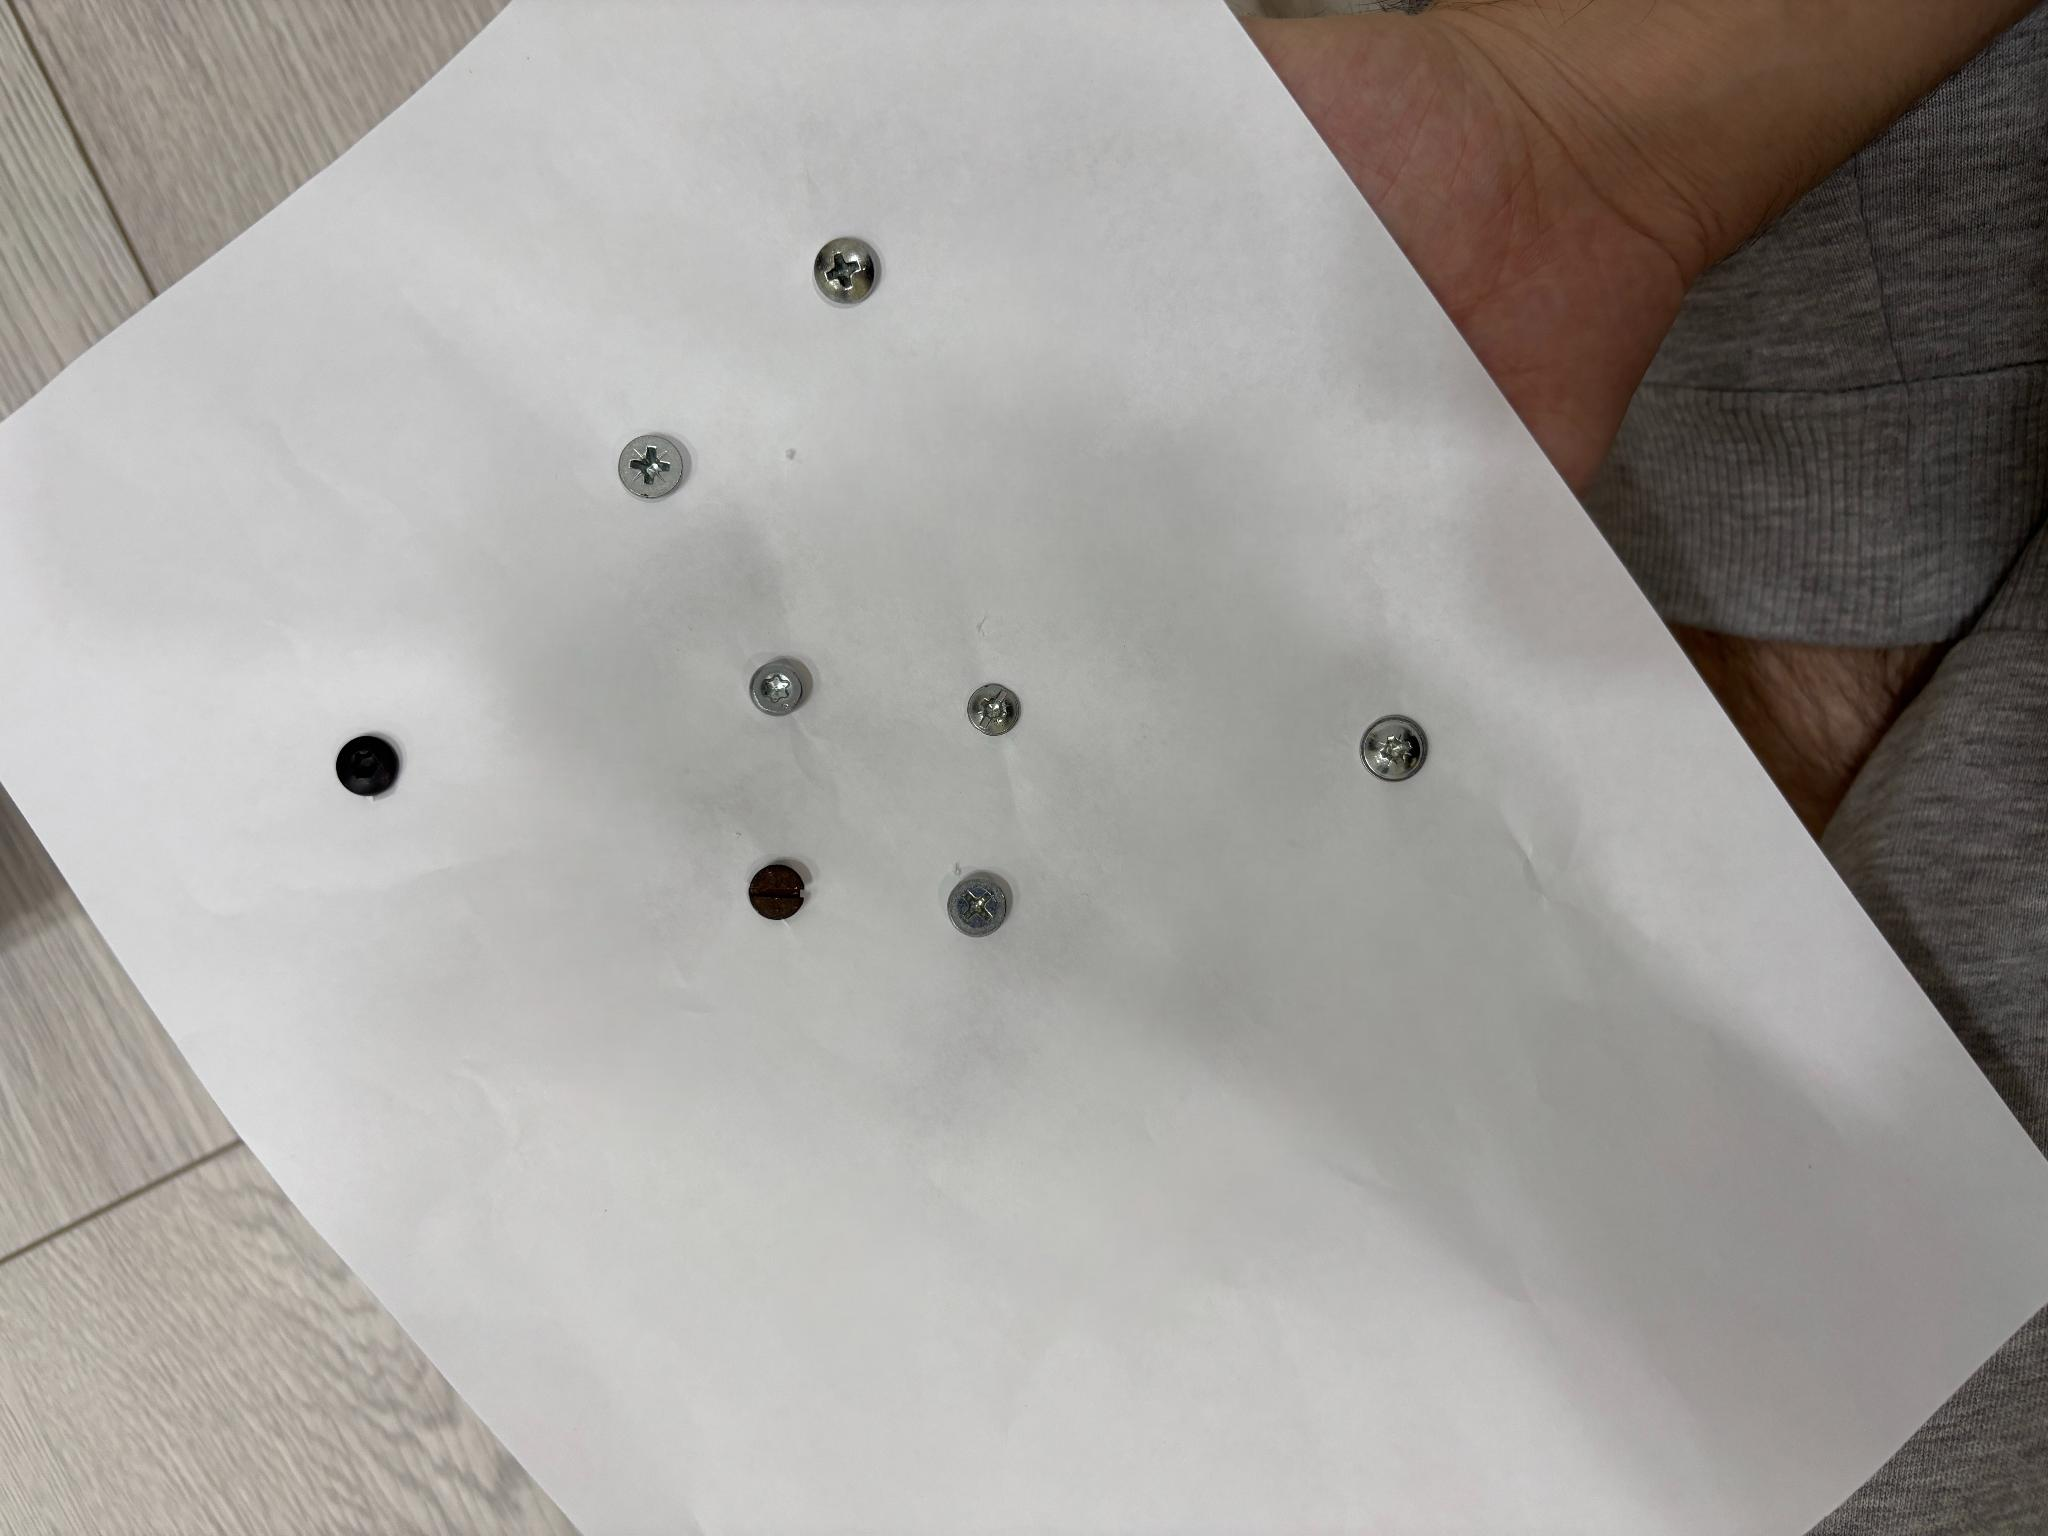H: (335, 736, 402, 797)
PH: (814, 236, 877, 305), (948, 871, 1011, 936)
PZ: (618, 432, 689, 499), (1361, 715, 1427, 781), (968, 682, 1021, 736)
SL: (748, 865, 803, 920)
T: (750, 665, 803, 715)
